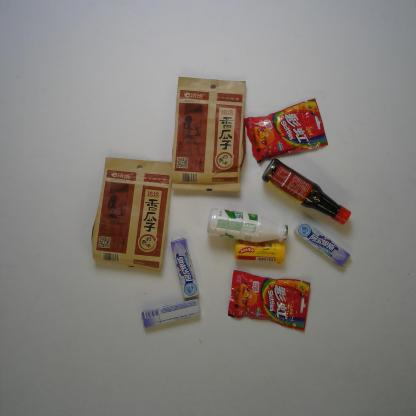Candy: (242, 96, 330, 164), (225, 269, 313, 332), (293, 218, 353, 270), (168, 234, 202, 300), (139, 297, 202, 330), (232, 237, 288, 265)
Dried Food: (90, 156, 173, 276), (168, 74, 249, 194)
Milk: (204, 206, 292, 244)
Seasoner: (260, 157, 354, 226)
